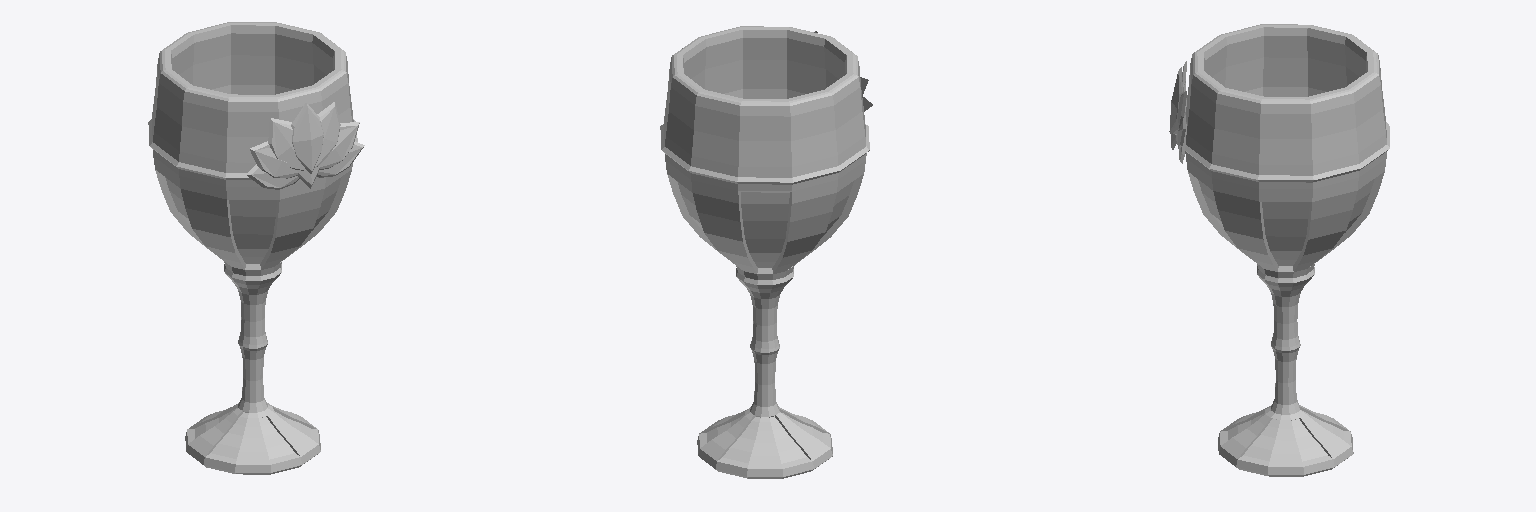
File: calice_hindu.obj
3 views of the same model, side by side, from view 1: azimuth 30°, elevation 25°; view 2: azimuth 150°, elevation 25°; view 3: azimuth 270°, elevation 25° (orthographic).
Visible parts, largest first — view 1: pCylinder12; view 2: pCylinder12; view 3: pCylinder12.
Part boxes in pixels (bbox=[...]): pCylinder12: bbox=[148, 22, 364, 474]; pCylinder12: bbox=[660, 26, 872, 478]; pCylinder12: bbox=[1169, 24, 1389, 476].
Bounding box in the file's own units: 2.6 × 5.31 × 2.74.